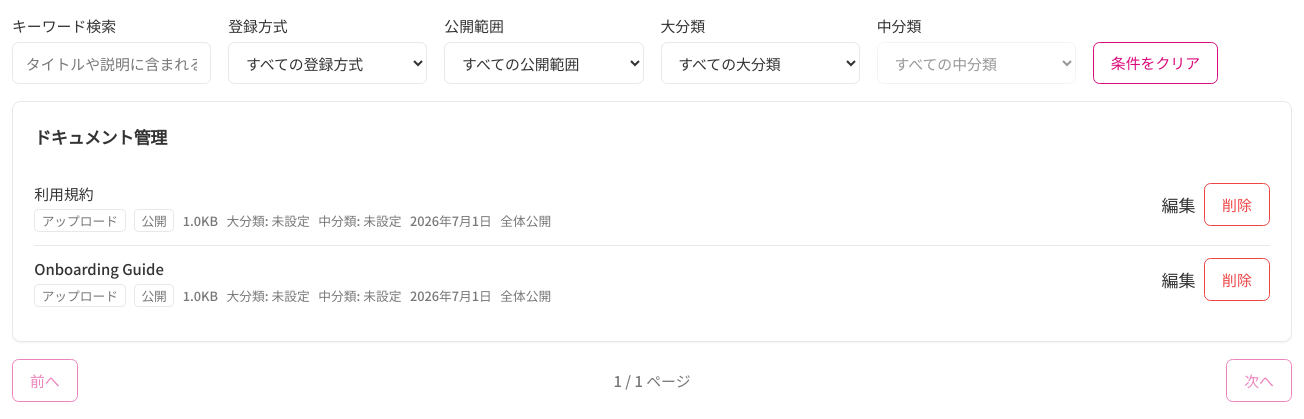
Scenario: DocumentManagementListClient › キーワードでタイトル・説明を絞り込む
Type "Onboarding" into the field labelled "キーワード検索" at (112, 63), box [12,42,211,84]
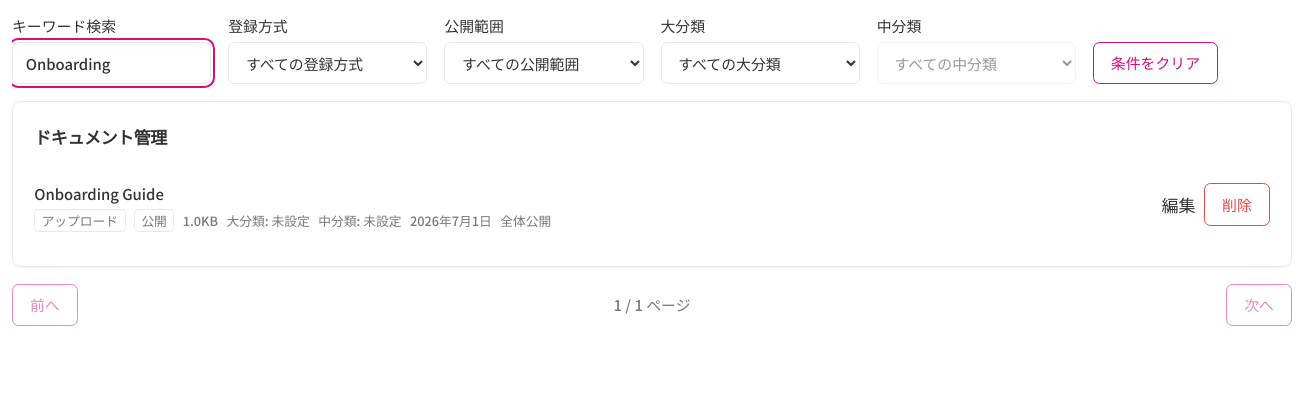
Expected: the text "Onboarding Guide" is shown, [34,183,164,204]
Expected: the text "利用規約" is gone
